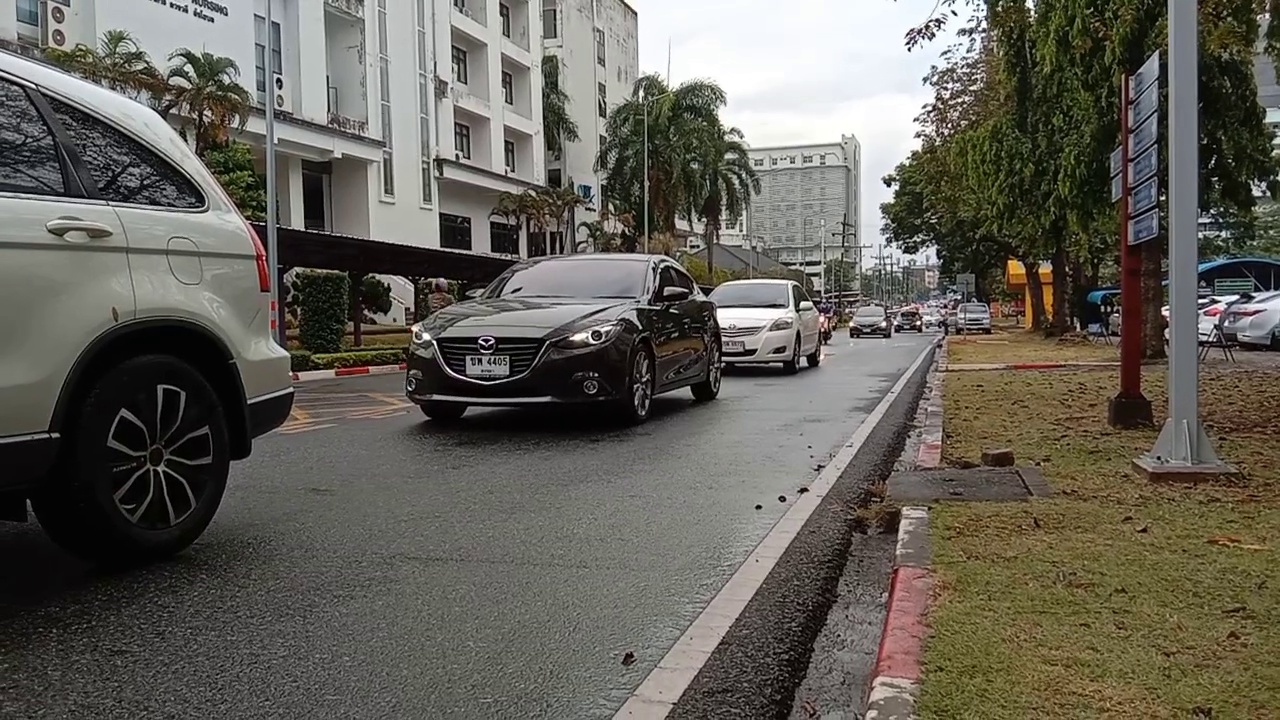License Plate: (466, 355, 512, 377)
